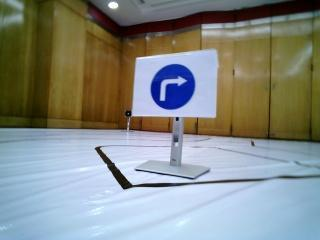right: (134, 57, 217, 116)
